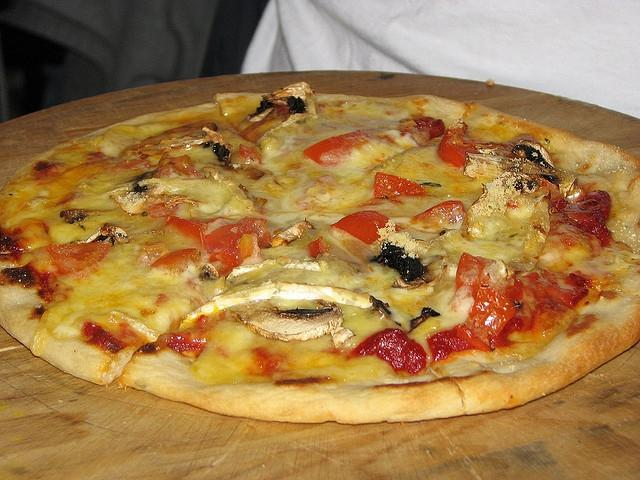mushroom: (170, 282, 372, 331), (464, 152, 578, 198), (230, 300, 344, 342), (371, 240, 449, 290), (162, 122, 232, 166), (262, 82, 318, 115), (70, 222, 131, 246), (272, 220, 316, 247), (512, 141, 552, 166), (132, 168, 162, 192), (247, 100, 274, 122)
tomato: (160, 213, 272, 278), (456, 284, 522, 352), (330, 210, 404, 244), (304, 130, 371, 164), (47, 241, 111, 276), (438, 122, 483, 168), (410, 200, 466, 236), (456, 252, 498, 300), (80, 322, 130, 354), (374, 172, 429, 199), (152, 248, 202, 272), (560, 199, 602, 224), (412, 116, 446, 140), (168, 340, 206, 358), (176, 156, 203, 177), (530, 175, 559, 194), (239, 144, 262, 164), (307, 236, 325, 259)
